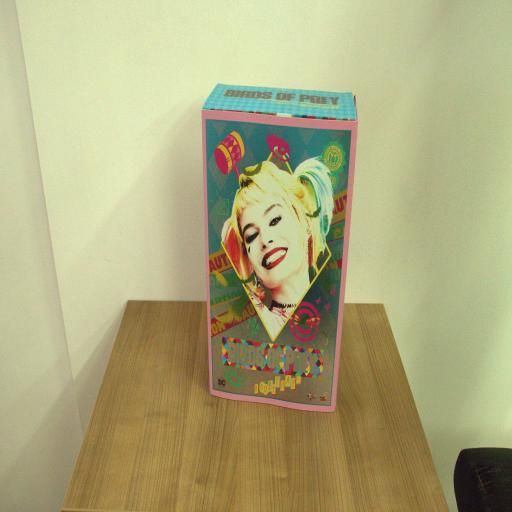Harley: (200, 82, 360, 414)
